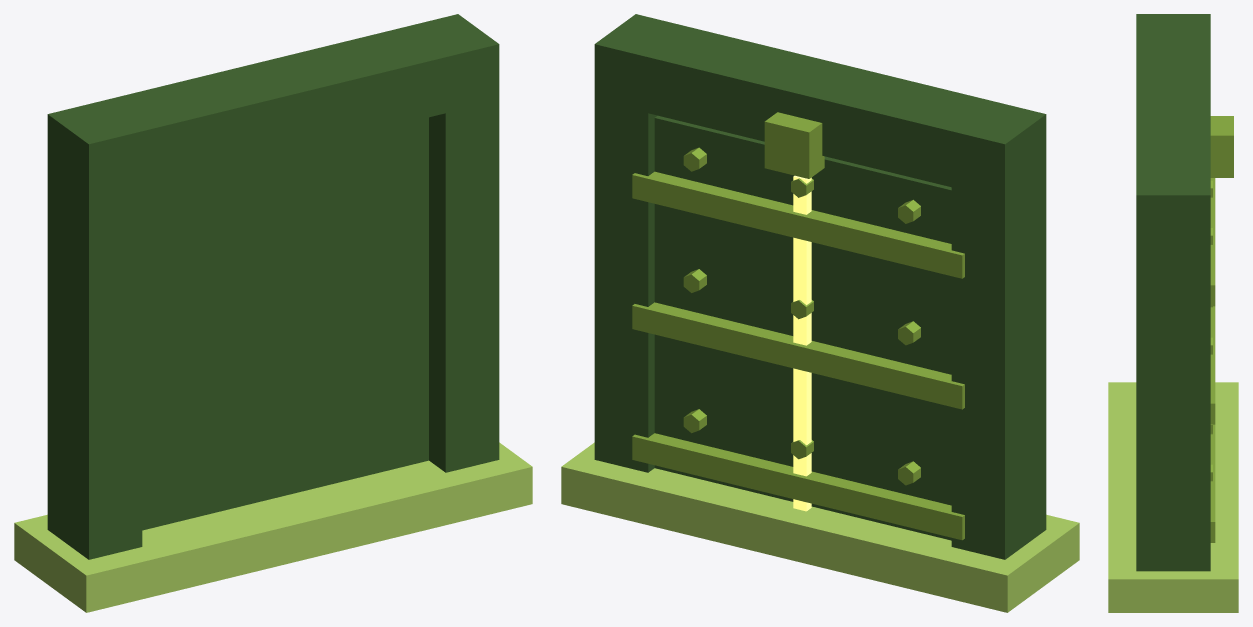
The model's file is forge_door.glb.
3 views of the same model, side by side, from view 1: azimuth 30°, elevation 25°; view 2: azimuth 150°, elevation 25°; view 3: azimuth 270°, elevation 25° (orthographic). The views are drawn at different scales.
Parts seen in each view (by area): view 1: forge_door; view 2: forge_door; view 3: forge_door.
Boxes of the visible parts, left/top/right/bottom form: forge_door: left=14, top=14, right=532, bottom=612; forge_door: left=561, top=14, right=1079, bottom=612; forge_door: left=1108, top=14, right=1238, bottom=612.
Size of the model in its own units: 5 by 4.85 by 1.4.
Materials: 2 (1 with a texture image).
